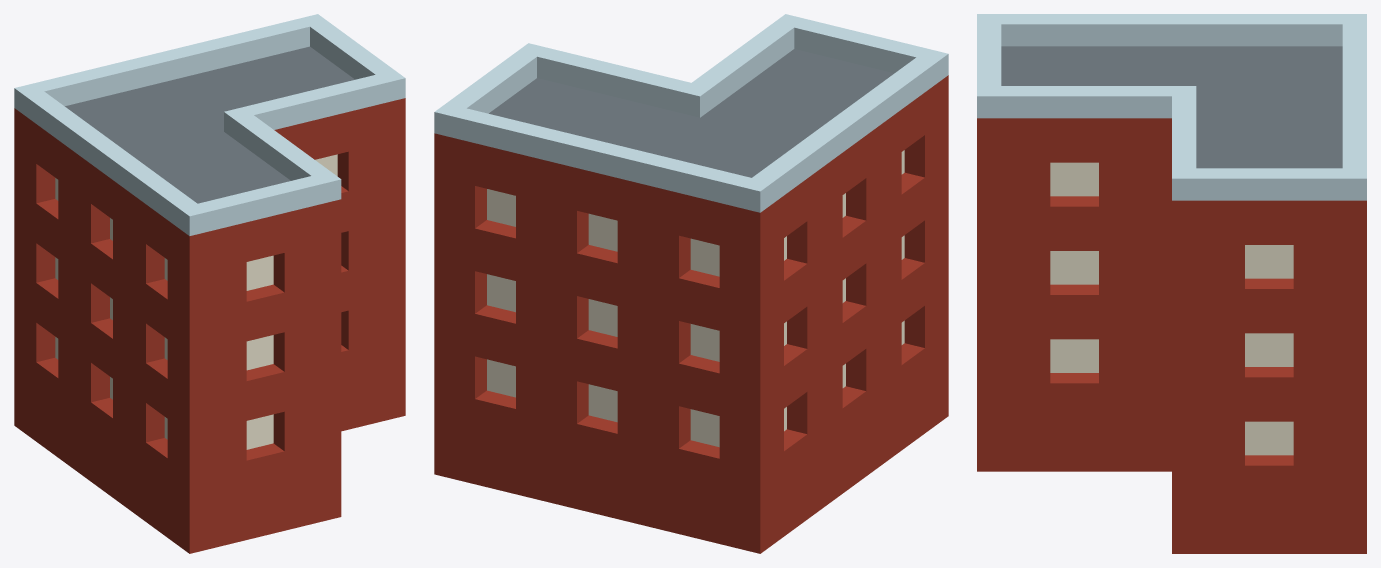
Rendered from Building_3  (Red).obj.
3 views of the same model, side by side, from view 1: azimuth 30°, elevation 25°; view 2: azimuth 150°, elevation 25°; view 3: azimuth 270°, elevation 25° (orthographic). The views are drawn at different scales.
Visible parts, largest first — view 1: Building_3__(Red); view 2: Building_3__(Red); view 3: Building_3__(Red).
Part boxes in pixels (x1,y1,x2,y2): Building_3__(Red): (14, 14, 405, 553); Building_3__(Red): (434, 14, 948, 553); Building_3__(Red): (977, 14, 1366, 553).
Bounding box in the file's own units: 1.6 × 1.7 × 1.6.
